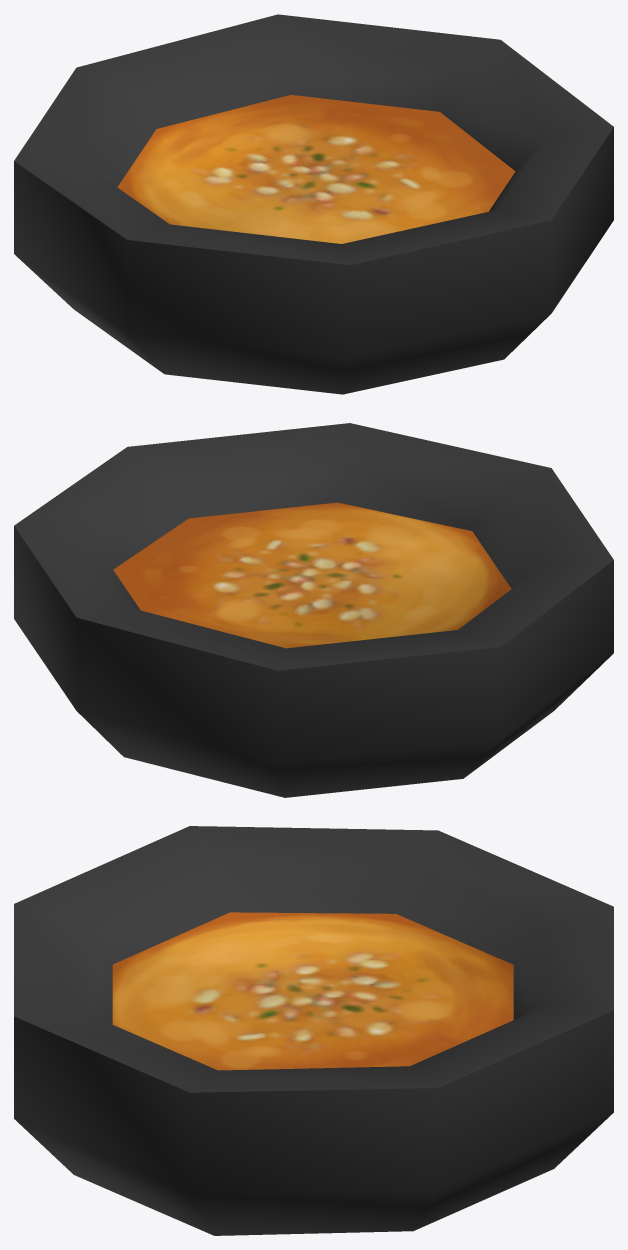
Rendered from SM_PROP_bowl_wood_03.FBX.
The picture shows the model from 3 angles, top to bottom: view 1: azimuth 30°, elevation 25°; view 2: azimuth 150°, elevation 25°; view 3: azimuth 270°, elevation 25°; orthographic projection. The views are drawn at different scales.
Visible parts, largest first — view 1: SM_PROP_bowl_wood_03; view 2: SM_PROP_bowl_wood_03; view 3: SM_PROP_bowl_wood_03.
Boxes of the visible parts, x1,y1,x2,y2 form: SM_PROP_bowl_wood_03: [14, 14, 613, 394]; SM_PROP_bowl_wood_03: [14, 423, 613, 797]; SM_PROP_bowl_wood_03: [14, 826, 613, 1235].
Size of the model in its own units: 27.69 by 26.96 by 10.16.
